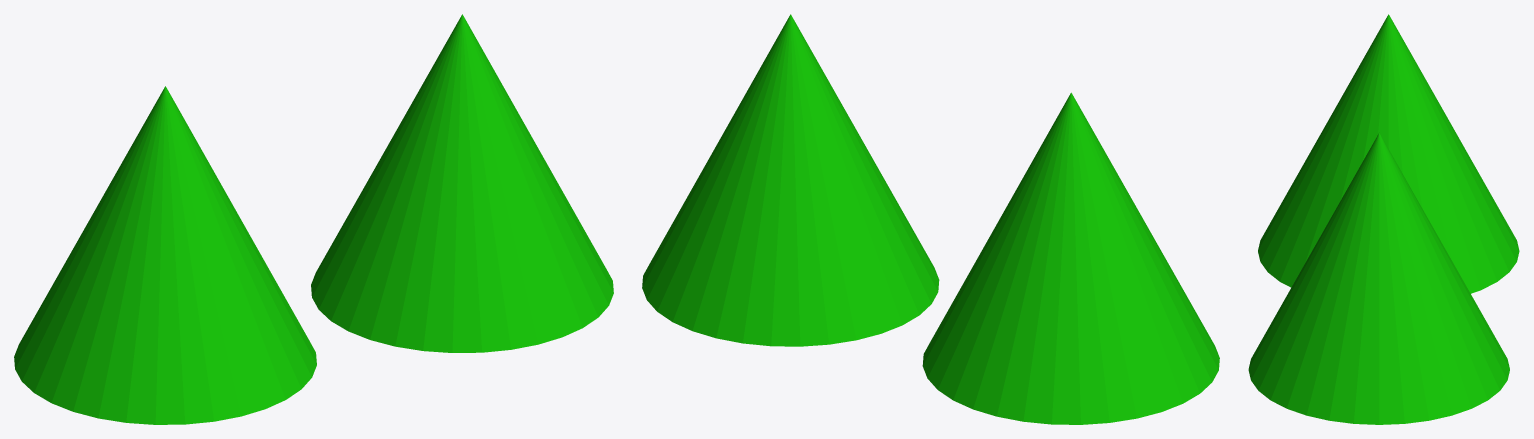
The model's file is triangles.obj.
3 renders of one model, left to right at view 1: azimuth 30°, elevation 25°; view 2: azimuth 150°, elevation 25°; view 3: azimuth 270°, elevation 25°, orthographic. The views are drawn at different scales.
Parts seen in each view (by area): view 1: Cone.001_Cone.003, Cone_Cone.001; view 2: Cone_Cone.001, Cone.001_Cone.003; view 3: Cone_Cone.001, Cone.001_Cone.003.
Boxes of the visible parts, x1,y1,x2,y2 form: Cone.001_Cone.003: (14, 86, 316, 424); Cone_Cone.001: (311, 14, 613, 352); Cone_Cone.001: (642, 14, 939, 346); Cone.001_Cone.003: (922, 92, 1219, 424); Cone_Cone.001: (1248, 133, 1509, 424); Cone.001_Cone.003: (1258, 14, 1519, 293).
Bounding box in the file's own units: 1.16 × 0.561 × 0.5713.
